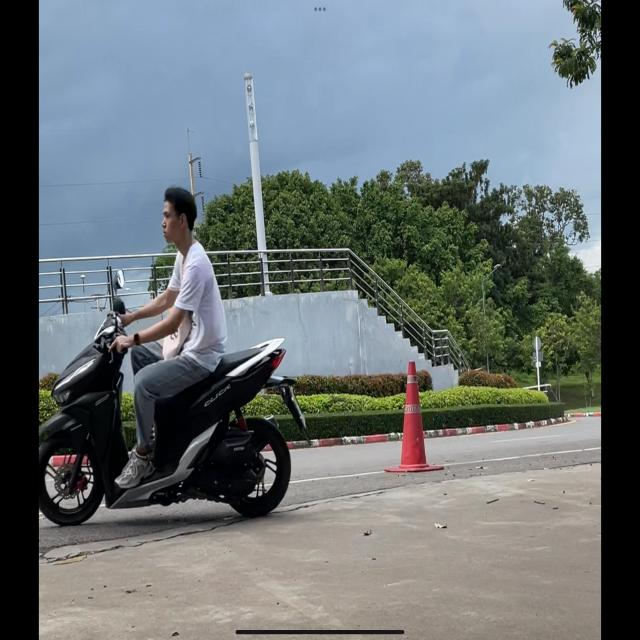seatbelt: (160, 184, 200, 245)
